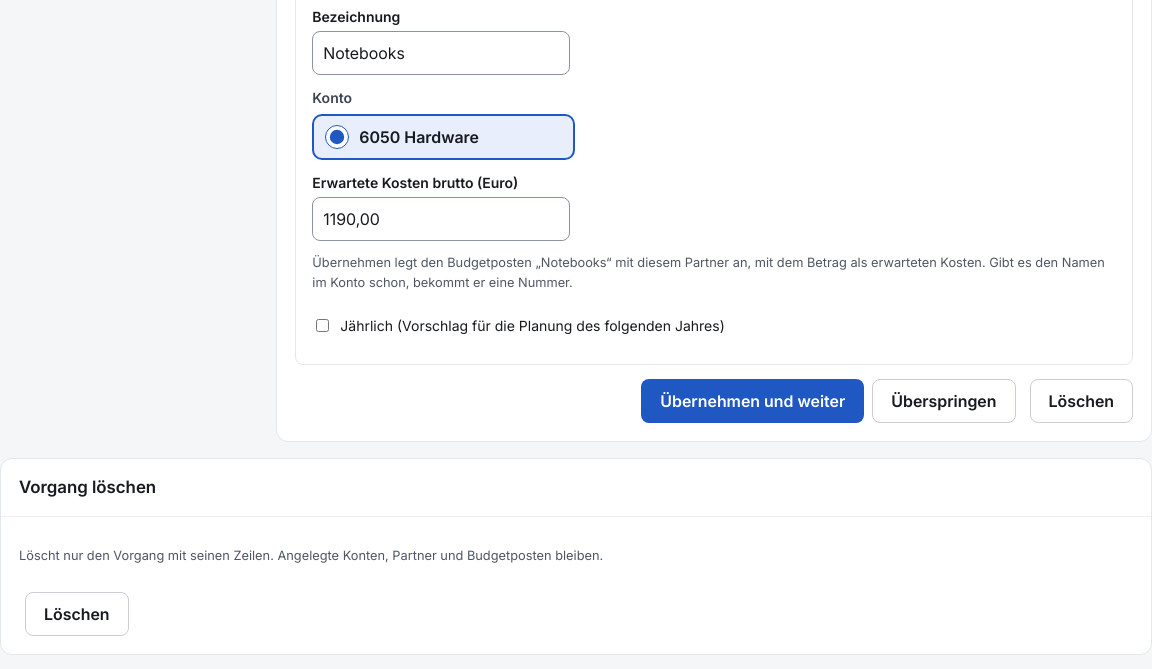
Test: Import › löscht eine offene Zeile und bricht den Import ab
The image size is (1152, 669).
(page scrolled)
Click the button with aria-label "Zeile 5 löschen": (1081, 401) top-left (1030, 379), bottom-right (1133, 423)
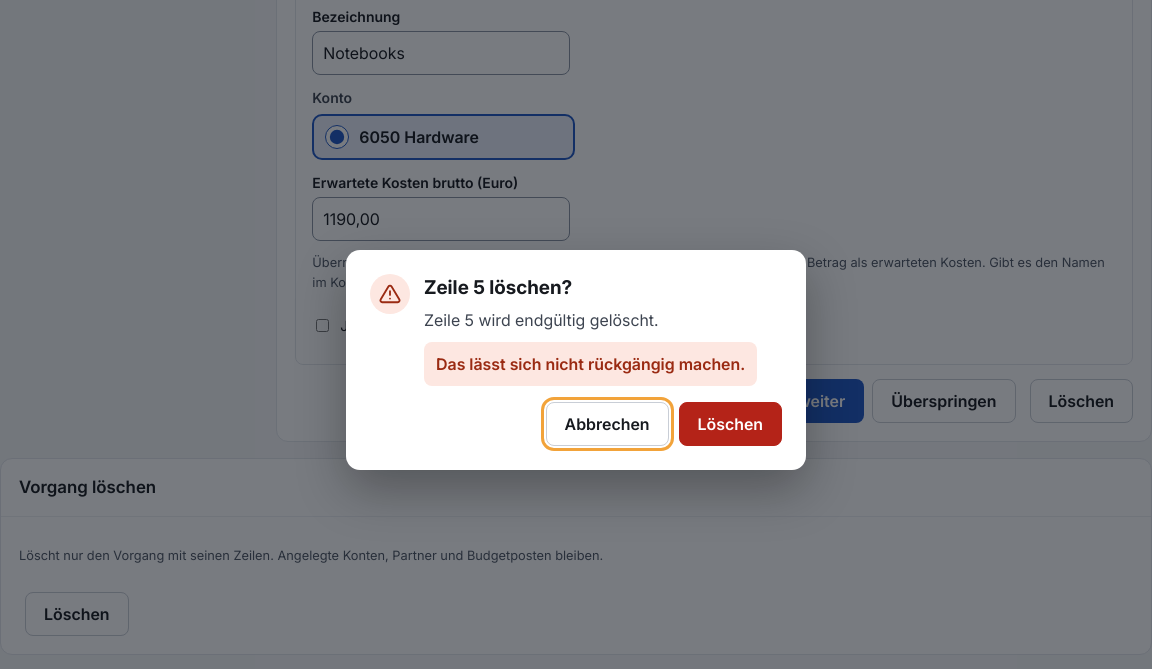
Click the button "Löschen": (730, 424) top-left (678, 402), bottom-right (782, 446)
(page scrolled)
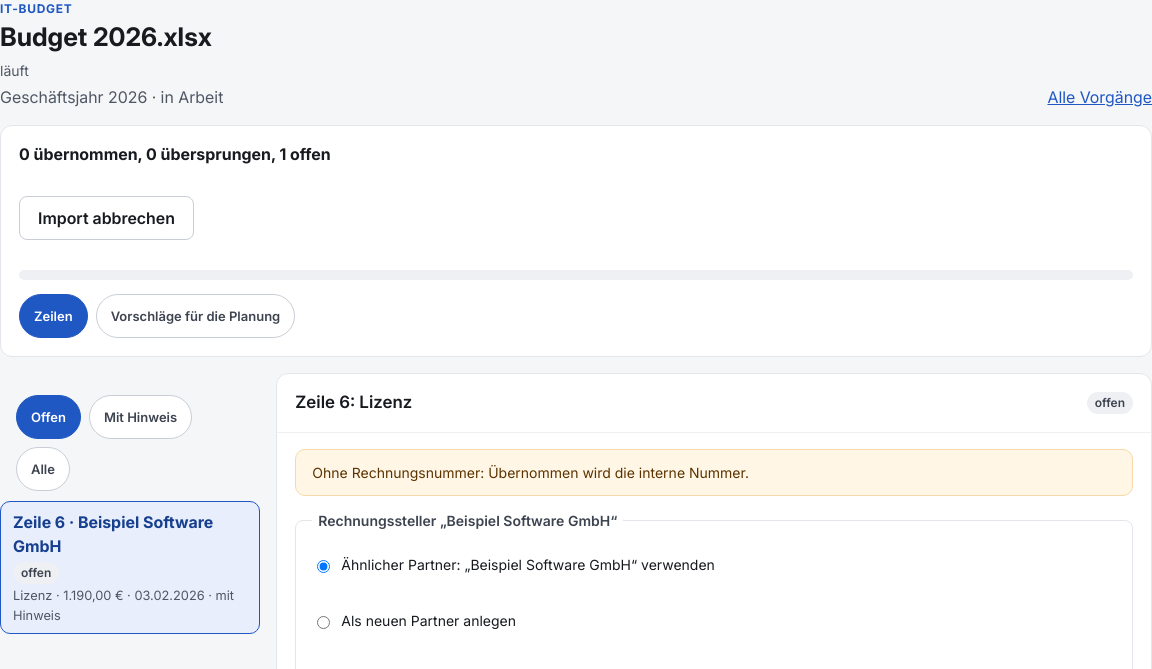
Now the heading "Zeile 6: Lizenz" is shown, box top-left (295, 390), bottom-right (412, 416)
Click the button "Import abbrechen": (106, 218) top-left (19, 196), bottom-right (194, 240)
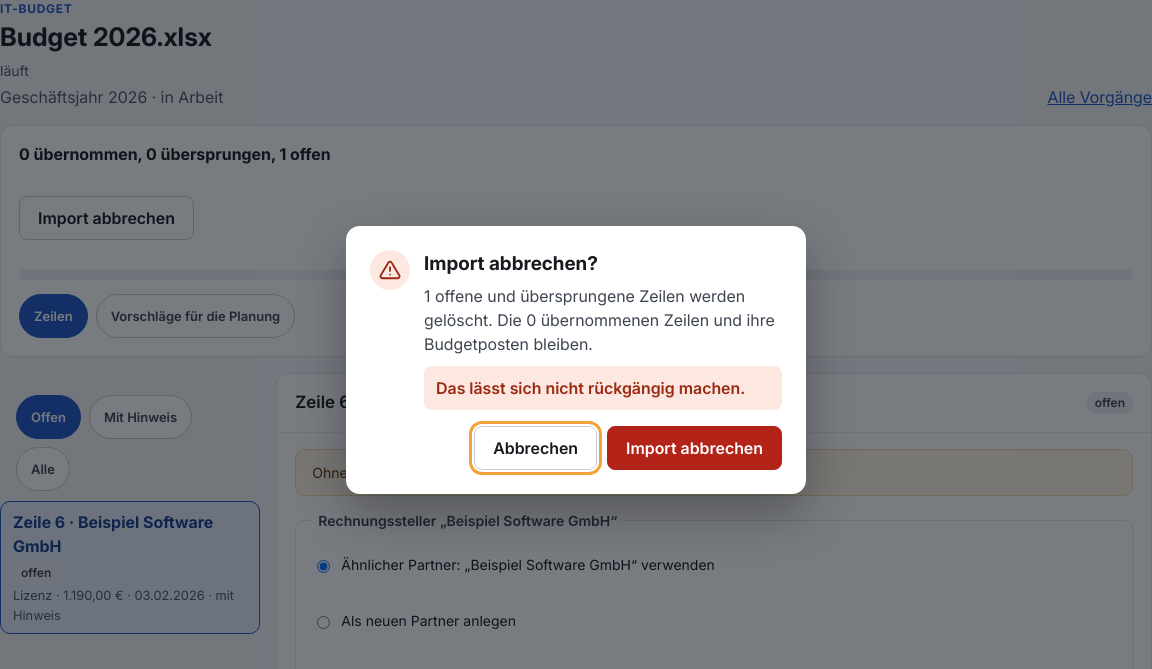
Now the dialog shows "1 offene und übersprungene Zeilen werden gelöscht", box top-left (424, 286), bottom-right (775, 354)
Click the button "Import abbrechen": (694, 448) top-left (607, 426), bottom-right (782, 470)
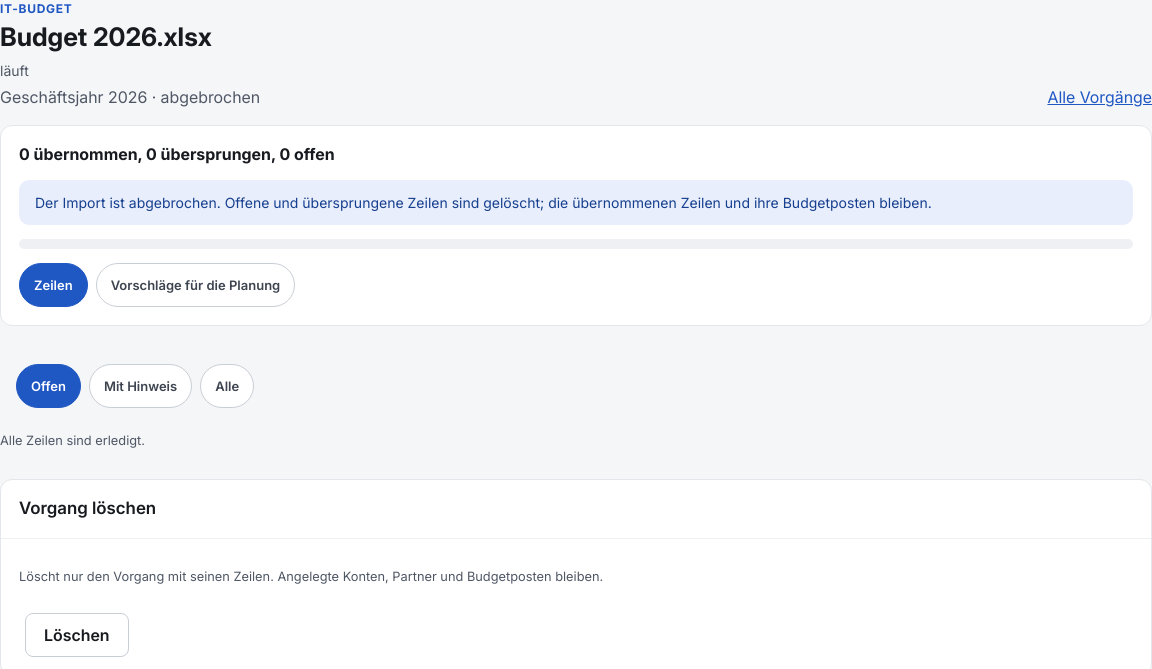
Now the text "Der Import ist abgebrochen" is shown, box top-left (35, 194), bottom-right (932, 211)
Now the button "Import abbrechen" is gone
